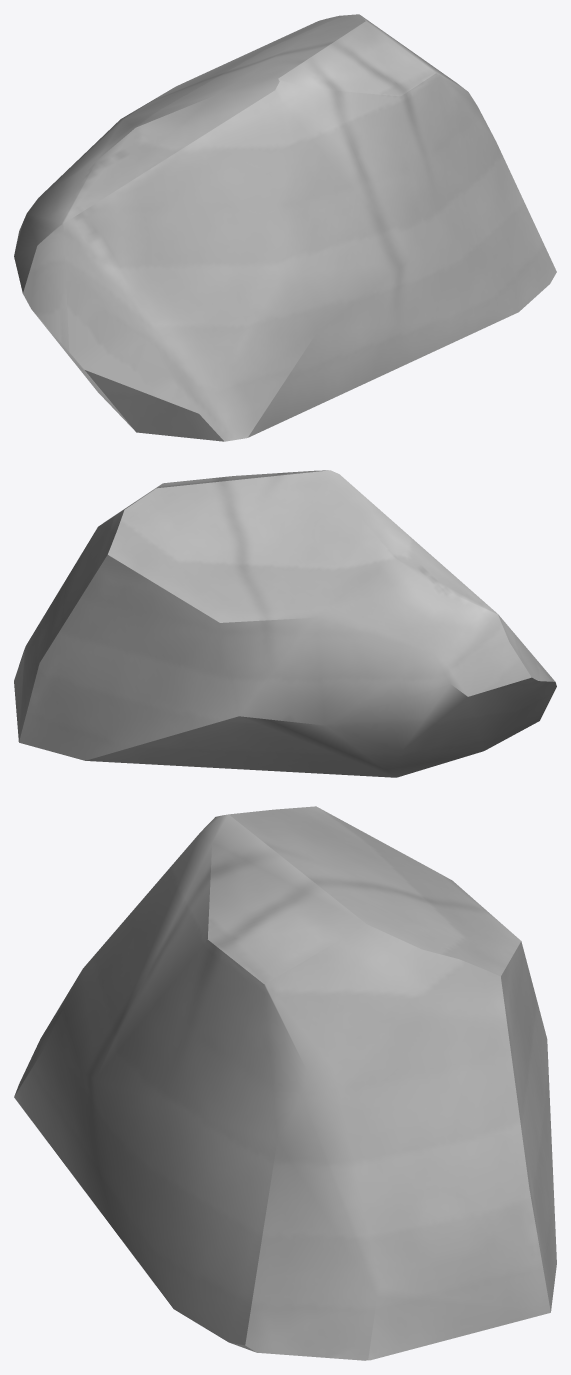
File: sculpted_stone_05.glb
3 views of the same model, one above another, from view 1: azimuth 30°, elevation 25°; view 2: azimuth 150°, elevation 25°; view 3: azimuth 270°, elevation 25° (orthographic). The views are drawn at different scales.
Parts seen in each view (by area): view 1: sculpted_stone_05; view 2: sculpted_stone_05; view 3: sculpted_stone_05.
Part boxes in pixels (bbox=[...]): sculpted_stone_05: bbox=[14, 14, 556, 441]; sculpted_stone_05: bbox=[14, 470, 556, 777]; sculpted_stone_05: bbox=[14, 806, 556, 1360].
Size of the model in its own units: 0.2643 by 0.1263 by 0.1751.
1 material, 1 textured.
